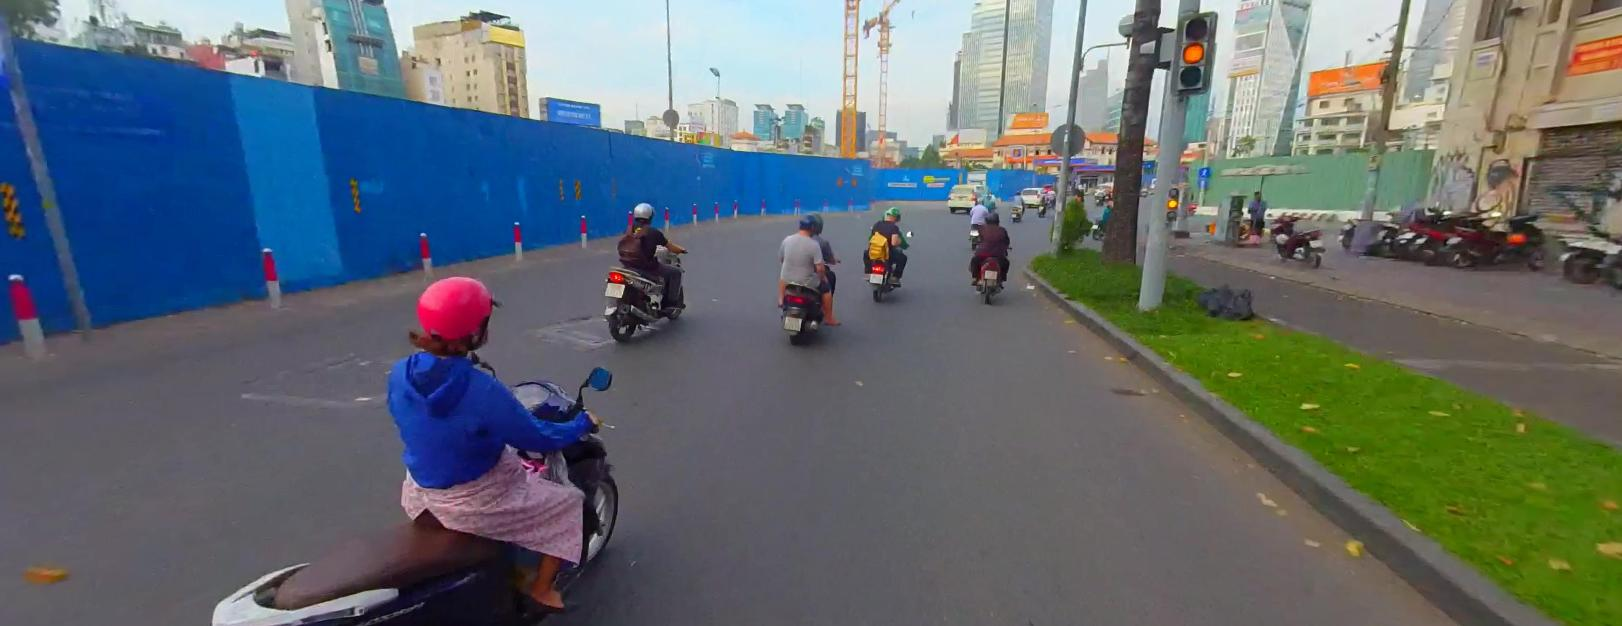Hieu lenh: (1196, 165, 1211, 176), (1196, 177, 1208, 186)
Nguy hiem: (835, 175, 843, 184), (850, 175, 857, 184)
